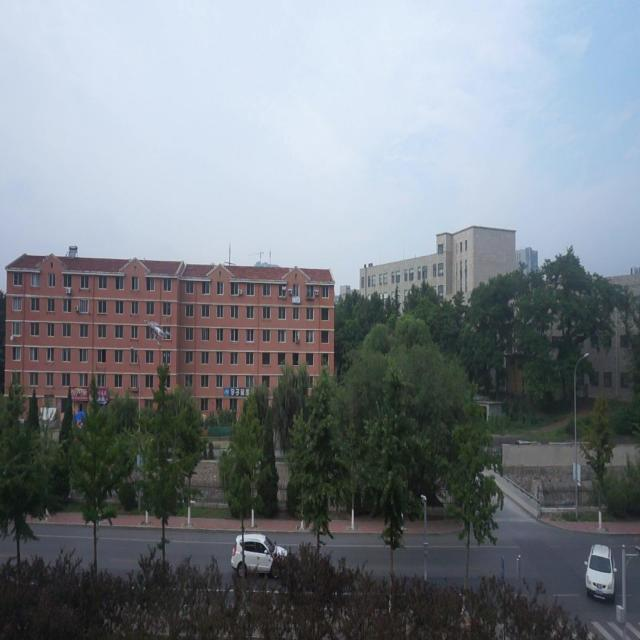UAV: (144, 319, 169, 345)
